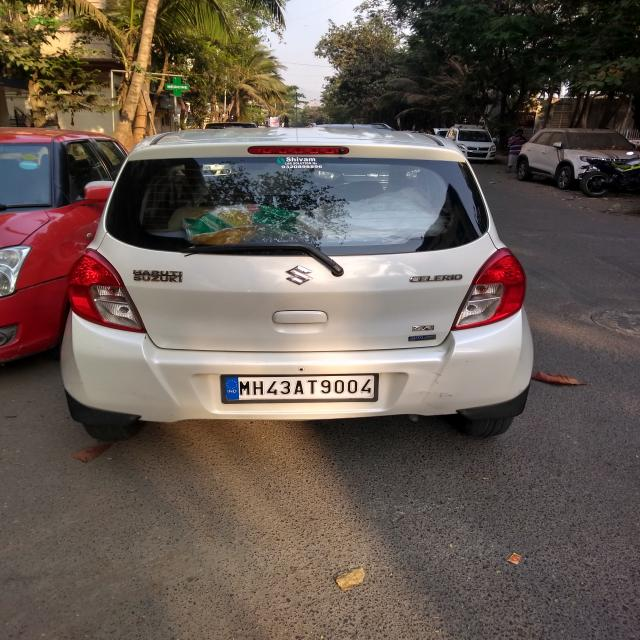Number-Plate: (228, 376, 376, 400)
